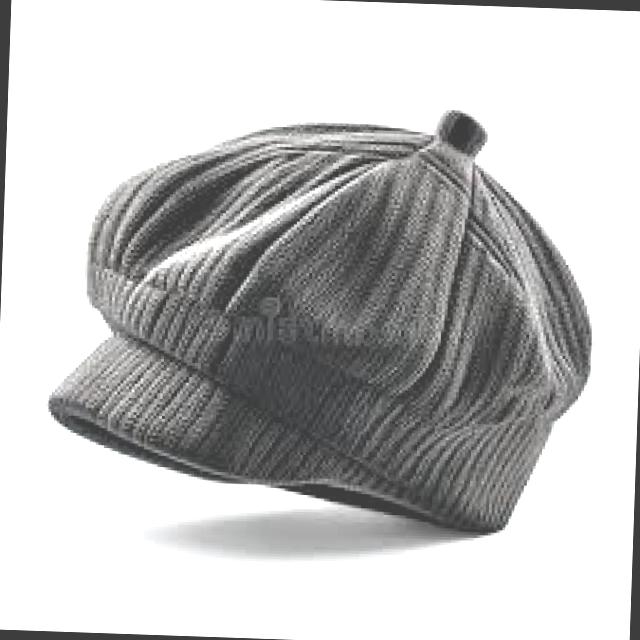hat: (48, 114, 590, 532)
